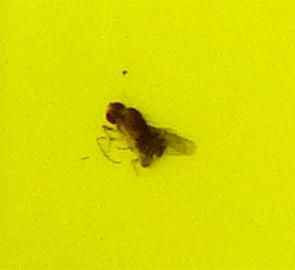Brachycera: (100, 100, 195, 170)
